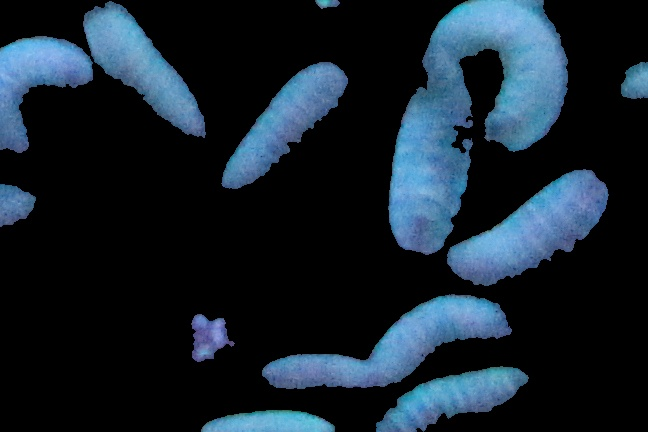larvae: (430, 1, 562, 160), (443, 164, 606, 286), (79, 9, 211, 152), (383, 62, 471, 254), (222, 68, 346, 196), (369, 366, 526, 432), (1, 31, 86, 149), (370, 297, 511, 361), (263, 347, 396, 389), (201, 410, 334, 432)
